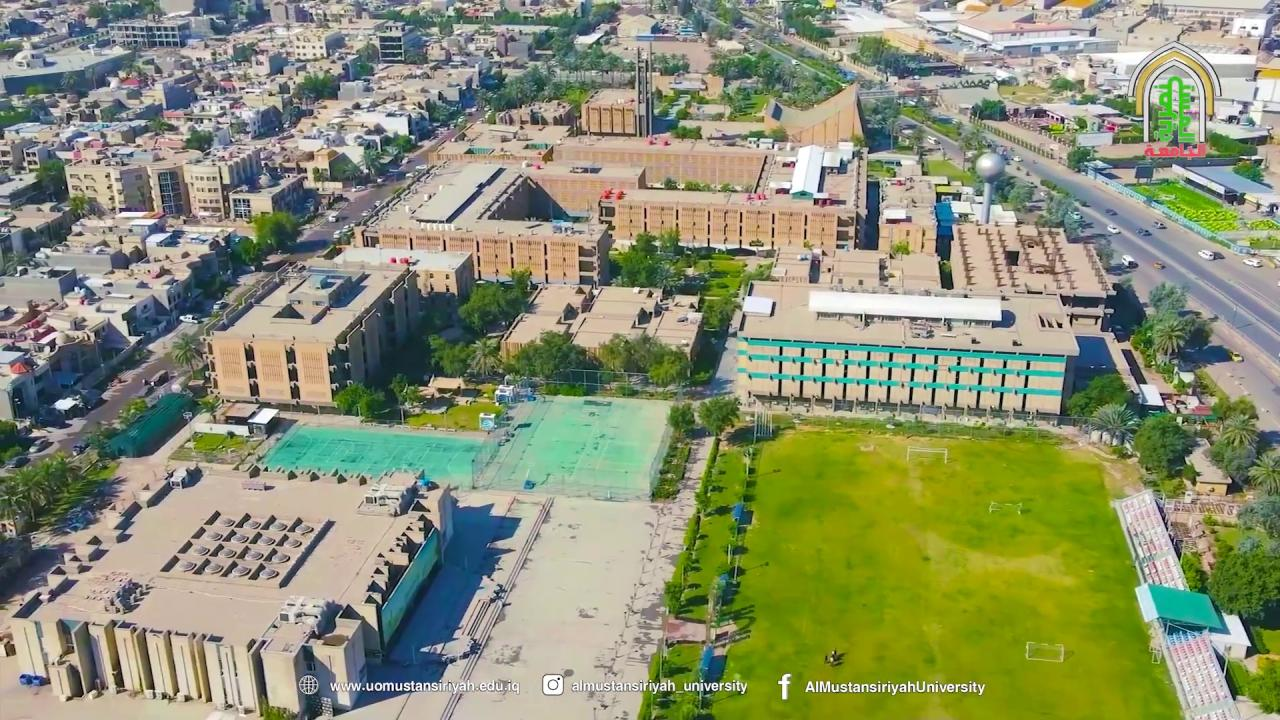car: (4, 455, 31, 470), (27, 438, 50, 454), (1198, 249, 1225, 260), (179, 313, 201, 324), (72, 441, 89, 455), (1121, 255, 1138, 268), (1242, 258, 1262, 267), (1229, 350, 1243, 362), (1107, 223, 1120, 234), (1136, 227, 1150, 236), (1153, 220, 1166, 229), (1154, 261, 1165, 269), (1104, 208, 1116, 215)
tree: (1206, 542, 1279, 619), (0, 451, 74, 526), (1132, 412, 1194, 477), (1209, 411, 1260, 482), (1065, 372, 1127, 424), (457, 281, 513, 333), (1087, 401, 1139, 446), (250, 209, 302, 253), (1150, 314, 1194, 363), (536, 329, 578, 378), (426, 333, 471, 378), (333, 379, 384, 418), (1243, 660, 1279, 714), (696, 394, 740, 438), (170, 331, 206, 380), (660, 568, 694, 618), (1218, 410, 1259, 450), (611, 247, 653, 286), (1210, 393, 1259, 426), (647, 351, 691, 387), (1248, 446, 1280, 495), (701, 290, 738, 332), (693, 466, 725, 514), (643, 647, 683, 685), (466, 336, 503, 377), (1147, 279, 1189, 314), (34, 158, 66, 199), (511, 339, 543, 380), (596, 339, 626, 381), (389, 372, 423, 408), (651, 260, 682, 298), (665, 402, 695, 440), (298, 72, 333, 101), (117, 396, 147, 428), (145, 113, 173, 147), (686, 520, 708, 560), (360, 143, 385, 178), (183, 126, 214, 153), (196, 391, 222, 423), (236, 236, 262, 267), (1007, 180, 1033, 210), (507, 263, 532, 294), (656, 224, 681, 253), (906, 127, 927, 161), (67, 188, 89, 219), (671, 122, 702, 142), (1094, 242, 1114, 269), (889, 238, 910, 260), (719, 182, 738, 204), (939, 259, 952, 289)
